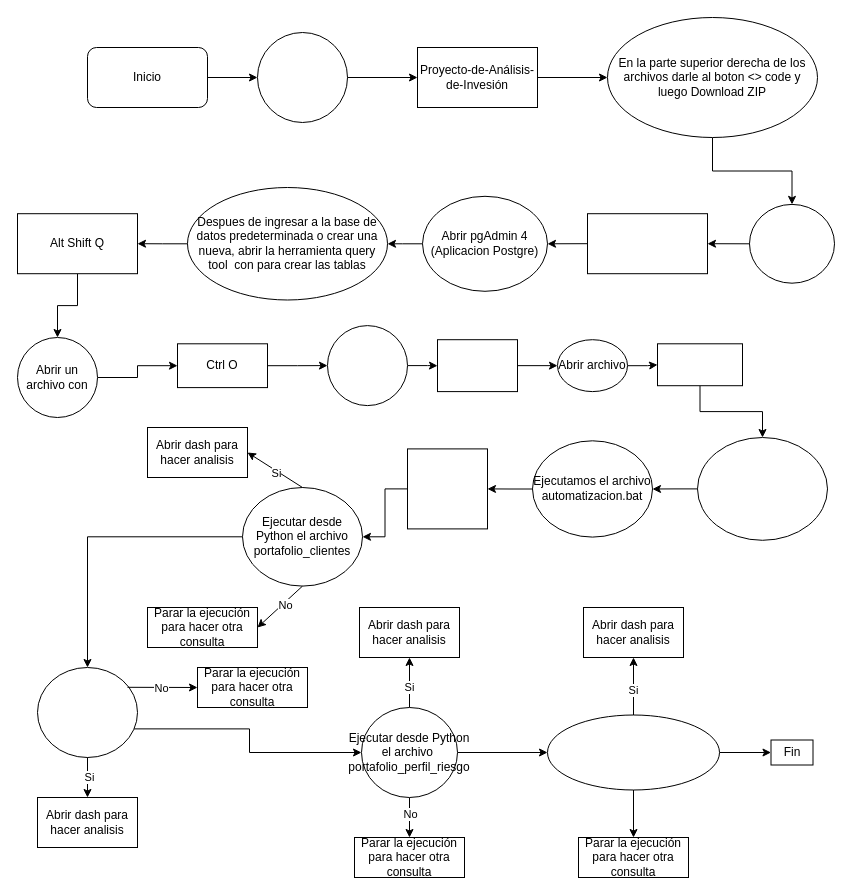
The diagram is 852 pixels wide and 896 high, and some of its shapes have lost their labels. The shapes that lost their labels are listed below. From the top down, each one's centre as x and y in pixels, then its label:
At pixel 302 77: "Ingresamos a Github y bucamos".
At pixel 647 243: "Proyecto-Analsis-de_Inversion".
At pixel 791 243: "Extraer la carpeta".
At pixel 367 365: "Ir a la ruta de la carpeta y abrir la capeta".
At pixel 477 365: "data_postgre".
At pixel 699 364: "F5 para ejecutar".
At pixel 447 488: "Despues llenado las tablas con sus datos realizar las consultas".
At pixel 762 488: "Abrir herramienta Python para llenar las tablas con los datos".
At pixel 87 712: "Ejecutar desde Python el archivo portafolio_banca".
At pixel 633 752: "Ejecutar desde Python el archivo portafolio_evolucion_aba".
